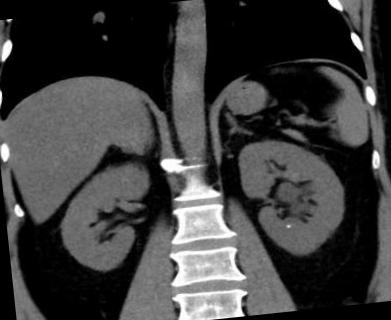Tas_Var: (284, 222, 292, 229)
